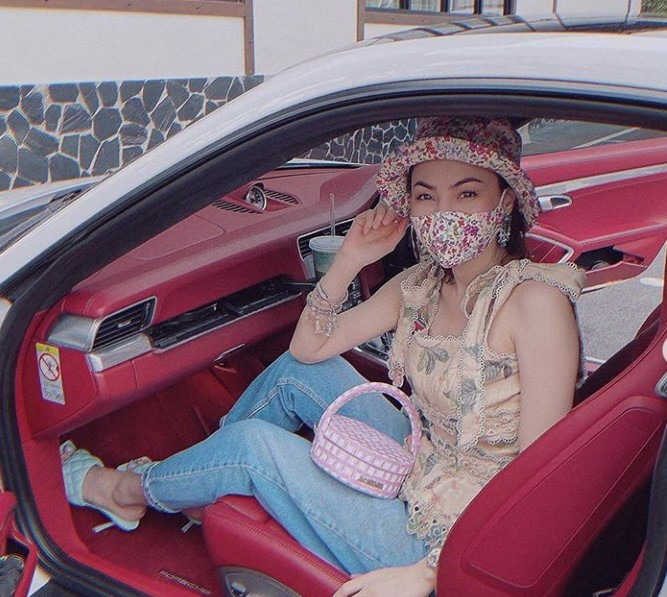face_with_mask: (386, 113, 526, 274)
